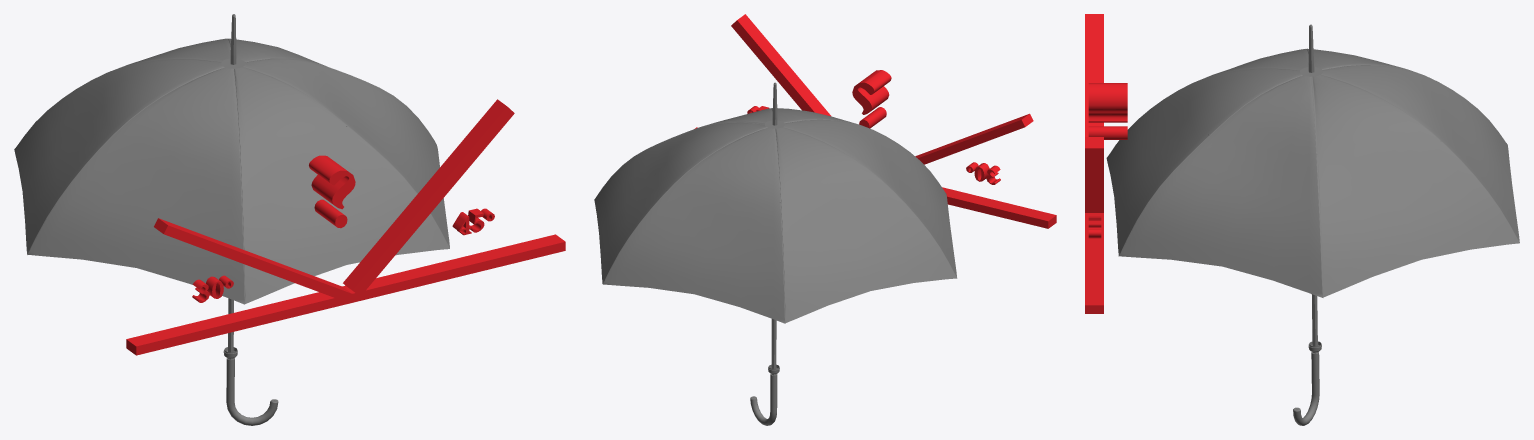
File: pergunta16_angulo.fbx
3 views of the same model, side by side, from view 1: azimuth 30°, elevation 25°; view 2: azimuth 150°, elevation 25°; view 3: azimuth 270°, elevation 25° (orthographic). The views are drawn at different scales.
Visible parts, largest first — view 1: node_id35, root (×3), node_id118, node_id31, node_id111, node_id104; view 2: node_id35, root (×3), node_id118, node_id31, node_id33, node_id104; view 3: node_id35, root (×3), node_id118, node_id31, node_id33.
Part boxes in pixels (x1,y1,x2,y2): node_id35: (14,38,449,304); root (×3): (126,99,565,355); node_id118: (309,155,355,228); node_id31: (226,358,278,425); node_id111: (452,208,494,235); node_id104: (192,275,233,302); node_id35: (594,108,957,323); root (×3): (695,14,1056,228); node_id118: (852,70,891,128); node_id31: (750,373,777,425); node_id33: (771,82,777,375); node_id104: (966,162,1000,184); node_id35: (1106,48,1519,297); root (×3): (1085,14,1103,313); node_id118: (1088,83,1127,139); node_id31: (1293,351,1319,425); node_id33: (1308,24,1317,353).
Size of the model in its own units: 0.5576 by 0.5126 by 0.5156.
